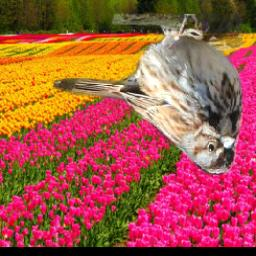Sparrow: (52, 15, 242, 176)
